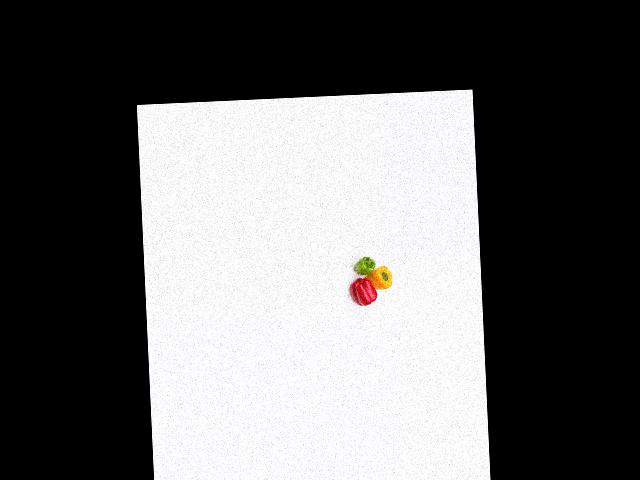bell_pepper: (352, 251, 377, 276)
